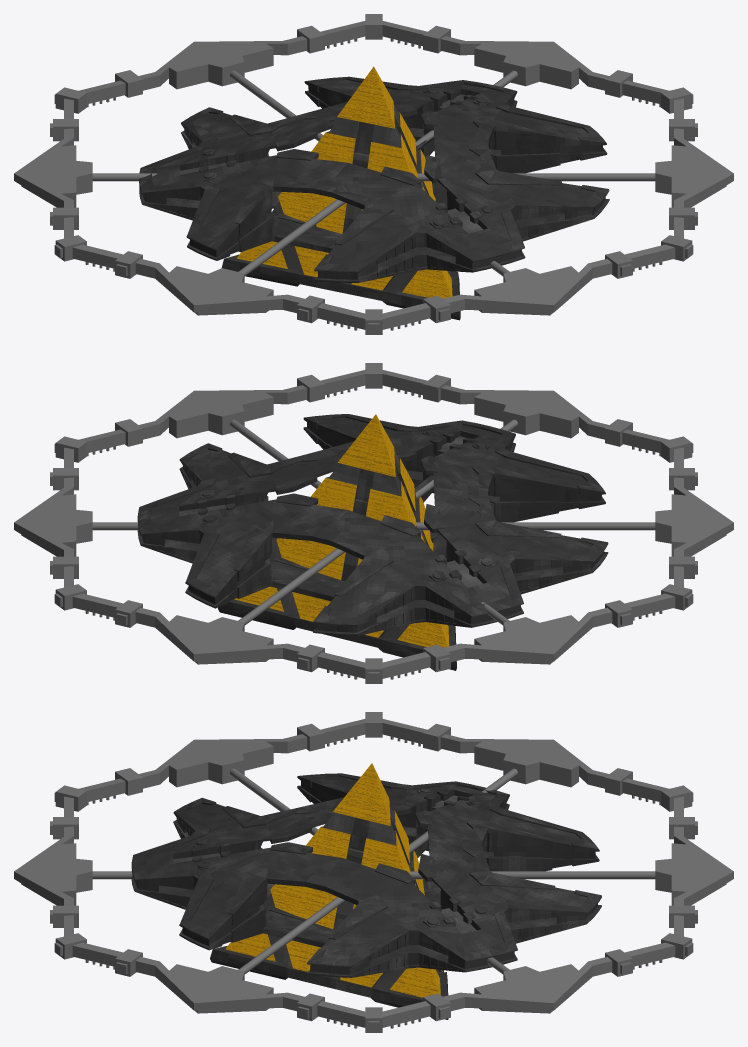
Rendered from Hatak_Dock.dae.
3 renders of one model, top to bottom at view 1: azimuth 30°, elevation 25°; view 2: azimuth 150°, elevation 25°; view 3: azimuth 270°, elevation 25°, orthographic.
Visible parts, largest first — view 1: Component_6 (×22), Component_7 (×9), Component_2 (×3), Component_4 (×3), Component_3 (×2); view 2: Component_6 (×22), Component_7 (×9), Component_2 (×3), Component_4 (×3), Component_3 (×2); view 3: Component_6 (×22), Component_7 (×9), Component_2 (×3), Component_4 (×3), Component_3 (×2).
Part boxes in pixels (x1,y1,x2,y2): Component_6 (×22): (139,66,609,320); Component_7 (×9): (21,43,726,315); Component_2 (×3): (72,21,733,329); Component_4 (×3): (14,21,675,329); Component_3 (×2): (55,87,692,113); Component_6 (×22): (137,414,608,670); Component_7 (×9): (21,392,726,664); Component_2 (×3): (72,370,733,678); Component_4 (×3): (14,370,675,678); Component_3 (×2): (55,436,692,462); Component_6 (×22): (131,763,601,1019); Component_7 (×9): (21,741,726,1013); Component_2 (×3): (72,719,733,1027); Component_4 (×3): (14,719,675,1027); Component_3 (×2): (55,785,692,811).
Size of the model in its own units: 58756 by 57872 by 18299.
